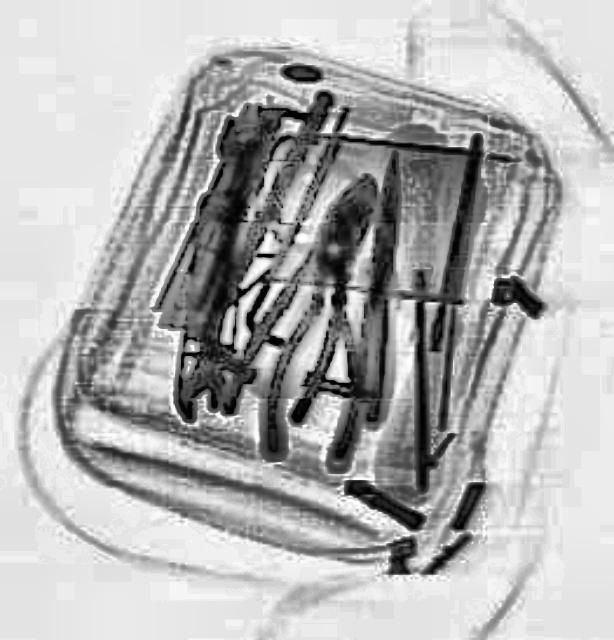Pliers: (209, 156, 410, 440), (252, 215, 387, 460)
Wrench: (169, 194, 236, 420), (210, 112, 270, 218)
